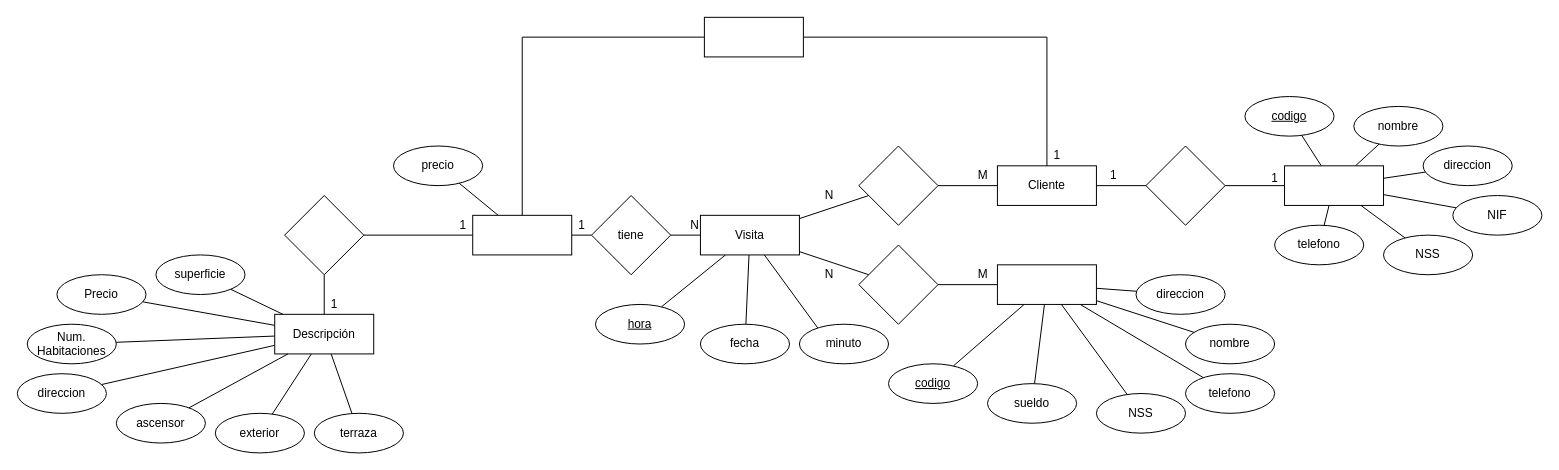
This 1559x470 diagram has some shape labels left out. Each missing label, with the centre of its shape:
al comprar: pixel 1185 185
código: pixel 324 235
Piso: pixel 522 234
preparada: pixel 898 284
Propietario: pixel 1334 185
realizada: pixel 898 185
Vendedor: pixel 1046 284
Zona: pixel 753 36
